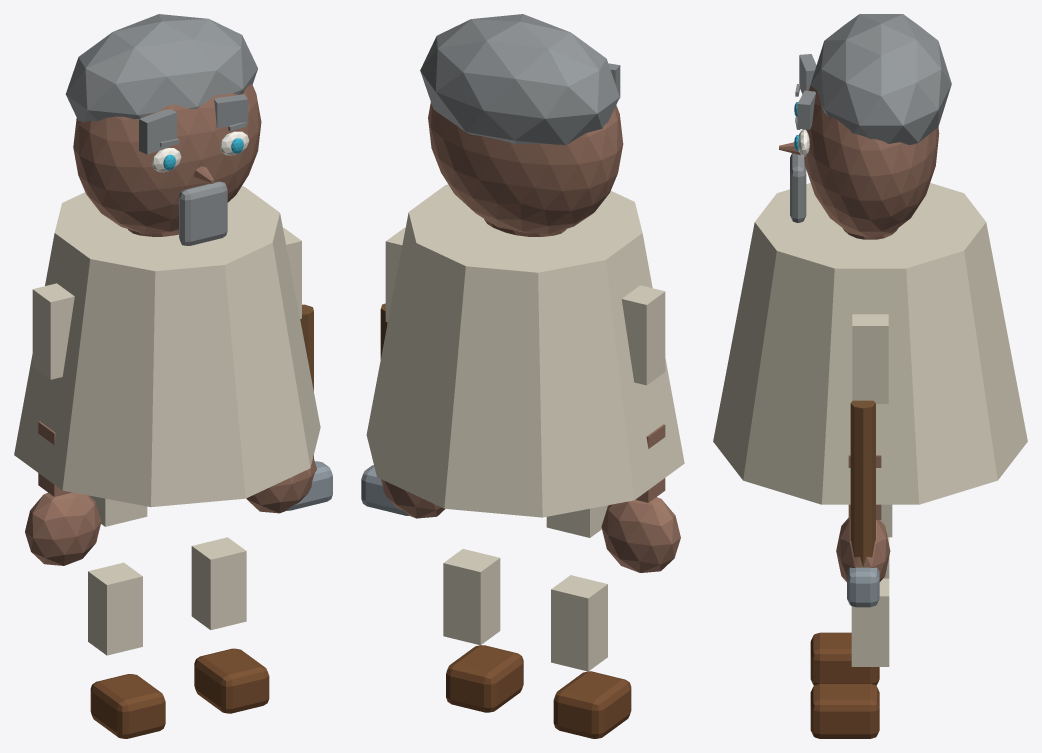
Rendered from bram.glb.
3 views of the same model, side by side, from view 1: azimuth 30°, elevation 25°; view 2: azimuth 150°, elevation 25°; view 3: azimuth 270°, elevation 25° (orthographic). The views are drawn at different scales.
Visible parts, largest first — view 1: Tunic, HairCap, Head, ShinR, ShinL, HandL, BootR, BootL, UpperArmL, Beard, HandR, HairFringeL (+6 smaller); view 2: Tunic, HairCap, Head, ShinR, ShinL, HandL, BootL, BootR, UpperArmL, ThighL, HandR, HammerHead (+2 smaller); view 3: Tunic, HairCap, Head, HammerGrip, BootR, UpperArmR, ShinR, BootL, HandR, HammerHead, Beard, HairFringeR (+1 smaller).
Part boxes in pixels (x1,y1,x2,y2): Tunic: [14, 186, 320, 507]; HairCap: [65, 14, 257, 122]; Head: [73, 84, 261, 234]; ShinR: [191, 537, 246, 629]; ShinL: [88, 562, 142, 655]; HandL: [25, 492, 101, 565]; BootR: [194, 648, 269, 713]; BootL: [90, 674, 165, 738]; UpperArmL: [32, 283, 74, 379]; Beard: [179, 181, 227, 245]; HandR: [246, 459, 316, 513]; HairFringeL: [139, 109, 176, 154]; Tunic: [366, 184, 684, 517]; HairCap: [420, 14, 619, 145]; Head: [428, 102, 623, 234]; ShinR: [443, 549, 500, 645]; ShinL: [551, 575, 607, 671]; HandL: [601, 497, 680, 572]; BootL: [553, 671, 631, 738]; BootR: [446, 645, 523, 712]; UpperArmL: [621, 285, 665, 385]; ThighL: [546, 505, 608, 537]; HandR: [381, 479, 444, 518]; HammerHead: [361, 465, 409, 515]; Tunic: [713, 183, 1027, 504]; HairCap: [811, 14, 951, 144]; Head: [802, 84, 939, 238]; HammerGrip: [850, 400, 875, 566]; BootR: [810, 683, 879, 738]; UpperArmR: [852, 314, 888, 403]; ShinR: [851, 578, 889, 666]; BootL: [810, 632, 879, 685]; HandR: [836, 518, 890, 581]; HammerHead: [847, 567, 879, 607]; Beard: [790, 153, 806, 222]; HairFringeR: [797, 90, 815, 129].
Bounding box in the file's own units: 0.9602 × 2.08 × 0.8704.
